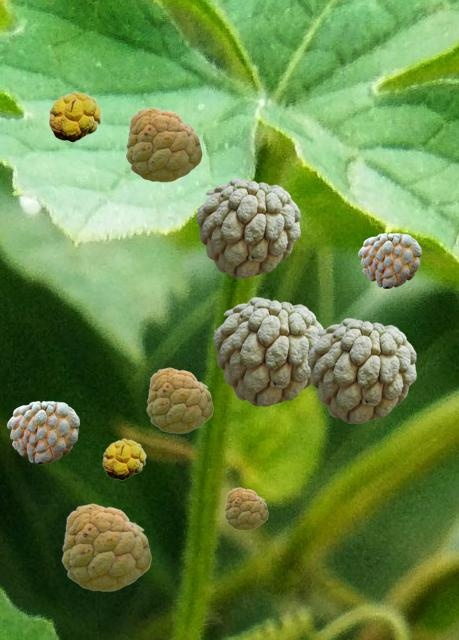atis: (213, 297, 323, 405), (307, 318, 415, 422), (196, 178, 299, 277), (61, 503, 150, 590), (125, 107, 201, 181), (7, 401, 78, 463), (146, 367, 212, 432), (358, 233, 420, 287), (48, 91, 101, 141), (224, 487, 267, 529), (102, 438, 145, 479)
